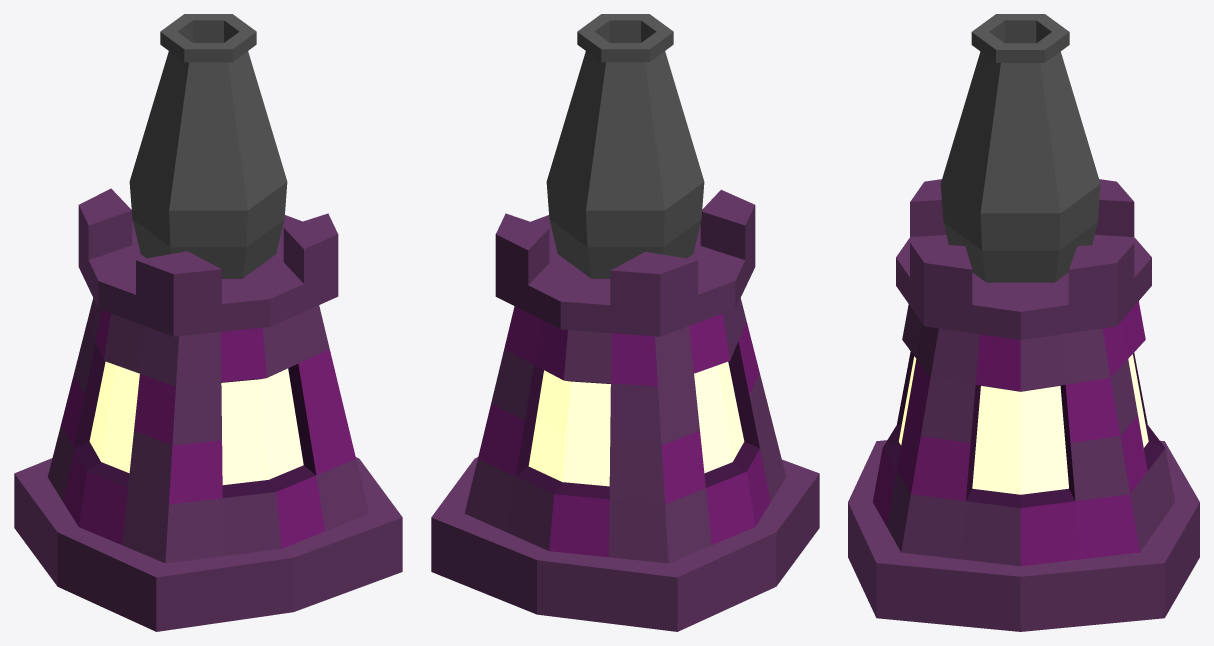
File: Bomber.fbx
3 views of the same model, side by side, from view 1: azimuth 30°, elevation 25°; view 2: azimuth 150°, elevation 25°; view 3: azimuth 270°, elevation 25° (orthographic).
Parts seen in each view (by area): view 1: Cube, Cylinder; view 2: Cube, Cylinder; view 3: Cube, Cylinder.
Part boxes in pixels (<box>): Cube: <box>14,188,402,631</box>; Cylinder: <box>129,14,287,278</box>; Cube: <box>431,189,819,631</box>; Cylinder: <box>546,14,704,278</box>; Cube: <box>848,179,1199,631</box>; Cylinder: <box>940,14,1100,282</box>.
Bounding box in the file's own units: 296 × 486 × 295.
